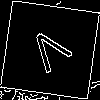V: (25, 25, 79, 82)
